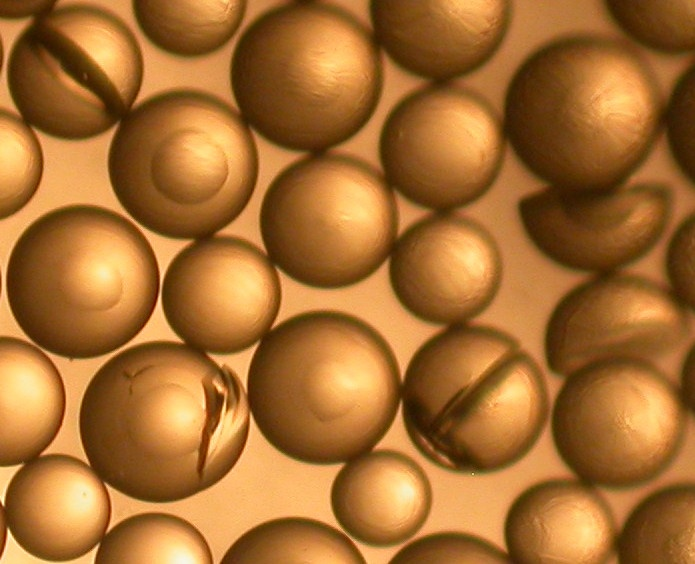resin: (79, 341, 251, 503), (246, 310, 403, 467), (5, 202, 161, 359), (504, 34, 661, 186), (232, 2, 384, 153), (109, 89, 260, 239), (402, 325, 549, 473), (260, 153, 398, 290), (7, 7, 143, 141), (550, 356, 687, 487), (380, 81, 507, 211), (545, 272, 689, 377), (162, 236, 282, 355), (389, 214, 503, 327), (520, 187, 671, 270), (4, 454, 112, 562), (370, 1, 512, 80), (330, 450, 432, 547), (503, 479, 618, 564), (1, 335, 66, 468), (217, 517, 372, 564), (131, 1, 246, 58), (95, 513, 215, 564), (618, 484, 695, 563), (1, 106, 43, 220)
